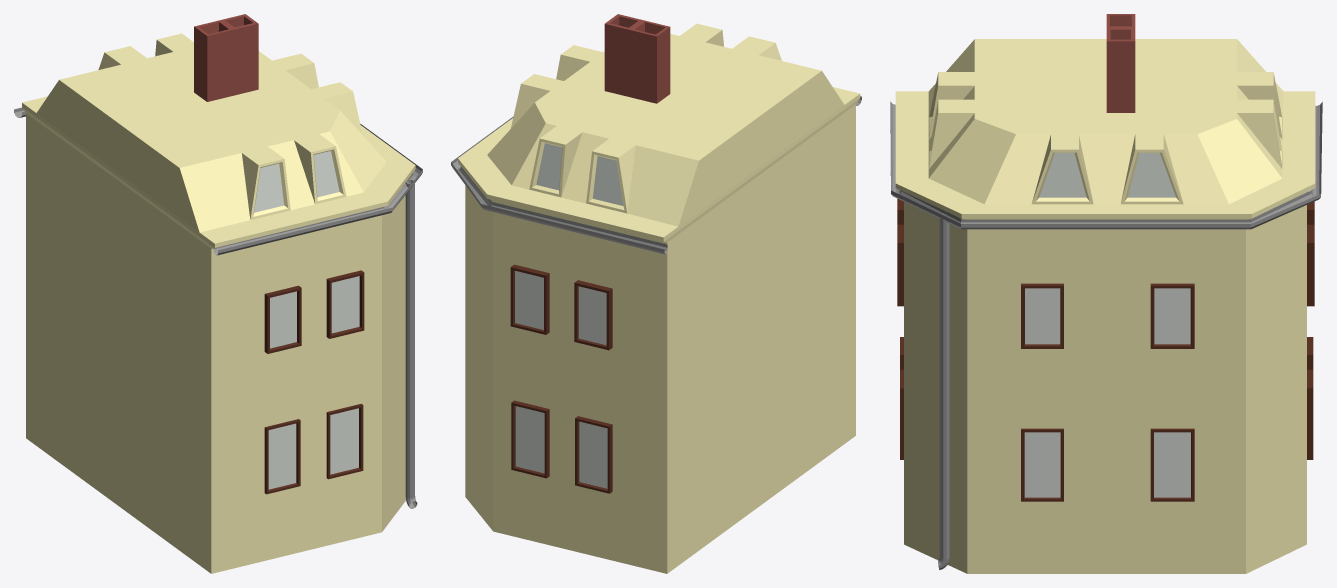
File: house_end.fbx
The picture shows the model from 3 angles, left to right: view 1: azimuth 30°, elevation 25°; view 2: azimuth 150°, elevation 25°; view 3: azimuth 270°, elevation 25°; orthographic projection. The views are drawn at different scales.
Visible parts, largest first — view 1: house_end; view 2: house_end; view 3: house_end.
Part boxes in pixels (left/top/right/bottom): house_end: left=14, top=14, right=422, bottom=573; house_end: left=451, top=14, right=861, bottom=573; house_end: left=890, top=14, right=1322, bottom=573.
Size of the model in its own units: 500 by 884 by 710.
